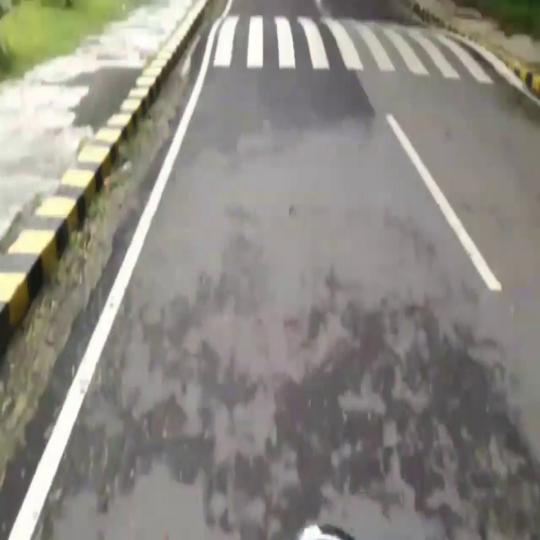Speed Bump: (186, 10, 513, 108)
